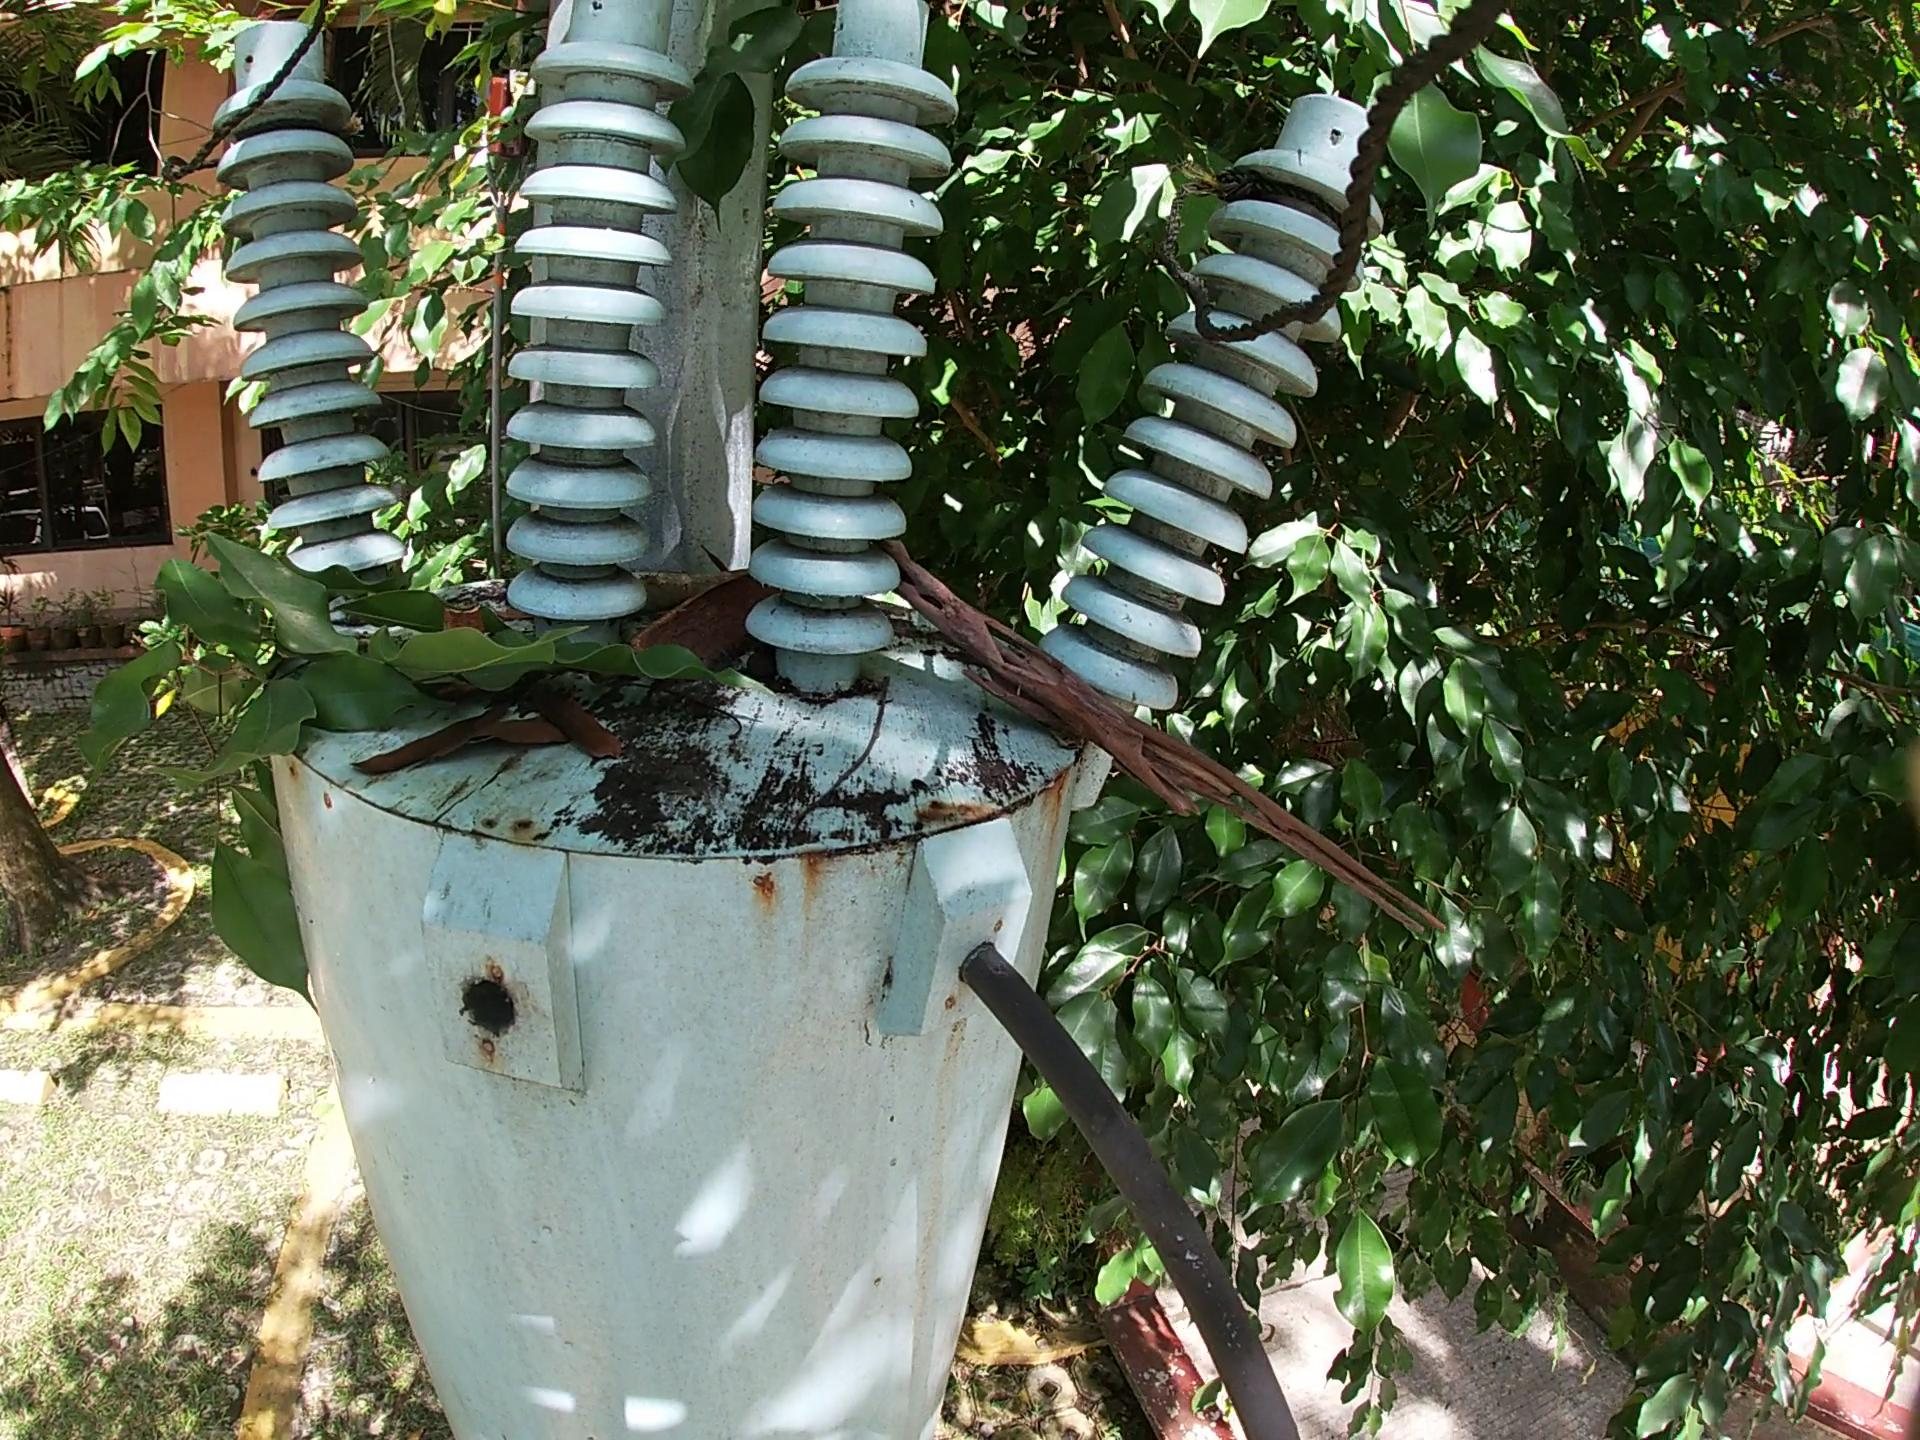branch with leaves: (70, 526, 759, 1021)
leaf: (345, 697, 517, 788), (522, 687, 627, 765), (457, 712, 570, 762)
mahogany fruit: (627, 566, 777, 684)
tree branch: (877, 538, 1450, 951)
